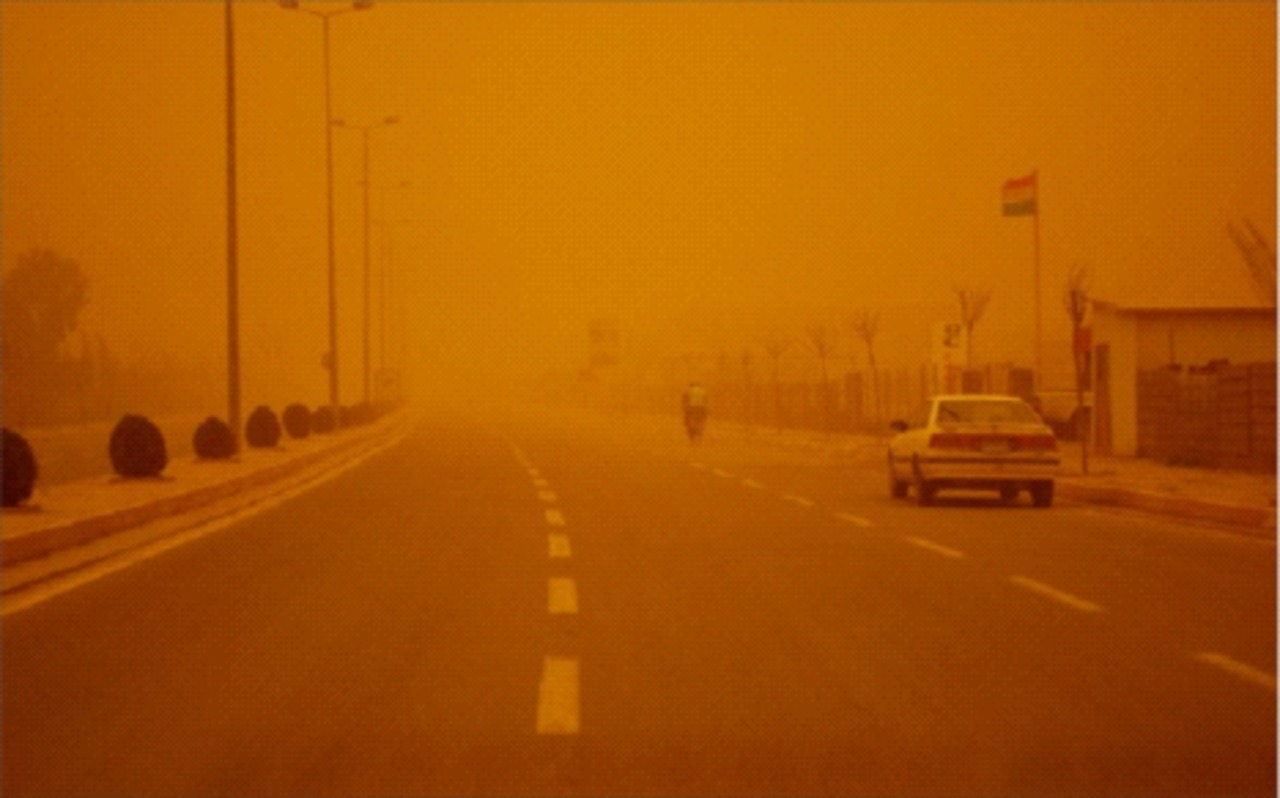bicycle: (681, 404, 710, 446)
car: (884, 395, 1059, 508)
person: (682, 379, 707, 433)
